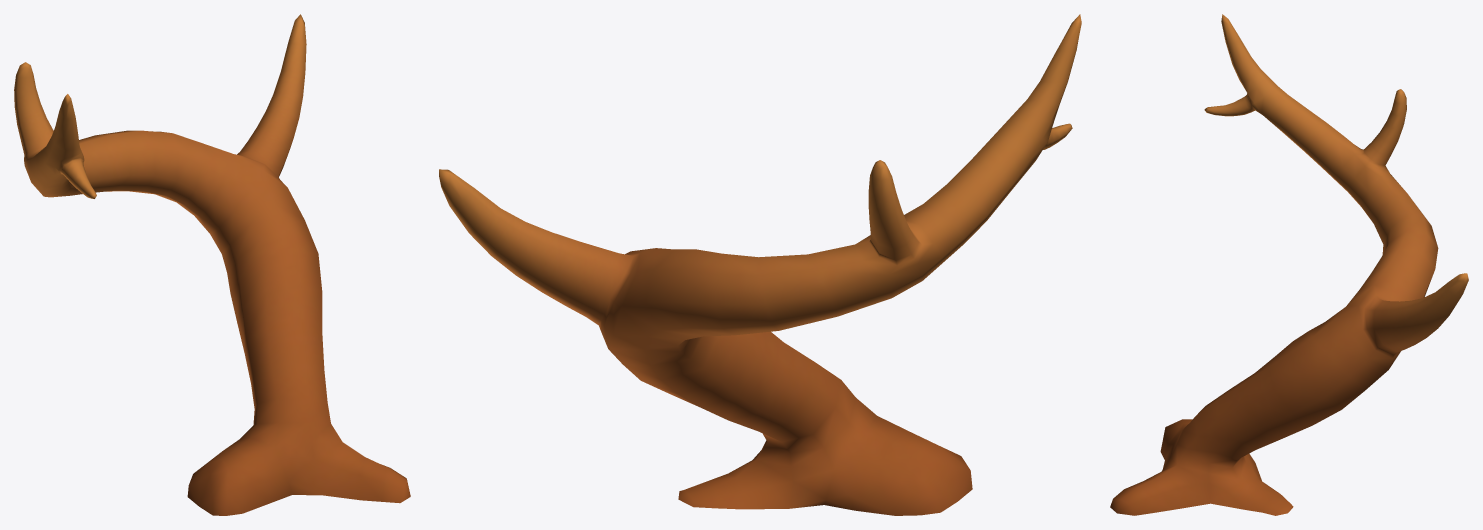
File: ArabianTree_L_02.fbx
3 views of the same model, side by side, from view 1: azimuth 30°, elevation 25°; view 2: azimuth 150°, elevation 25°; view 3: azimuth 270°, elevation 25° (orthographic). The views are drawn at different scales.
Visible parts, largest first — view 1: ArabianTree_L_02; view 2: ArabianTree_L_02; view 3: ArabianTree_L_02.
Part boxes in pixels (x1,y1,x2,y2): ArabianTree_L_02: [14, 14, 410, 515]; ArabianTree_L_02: [439, 14, 1081, 515]; ArabianTree_L_02: [1110, 14, 1468, 515].
Bounding box in the file's own units: 429 × 467 × 402.
